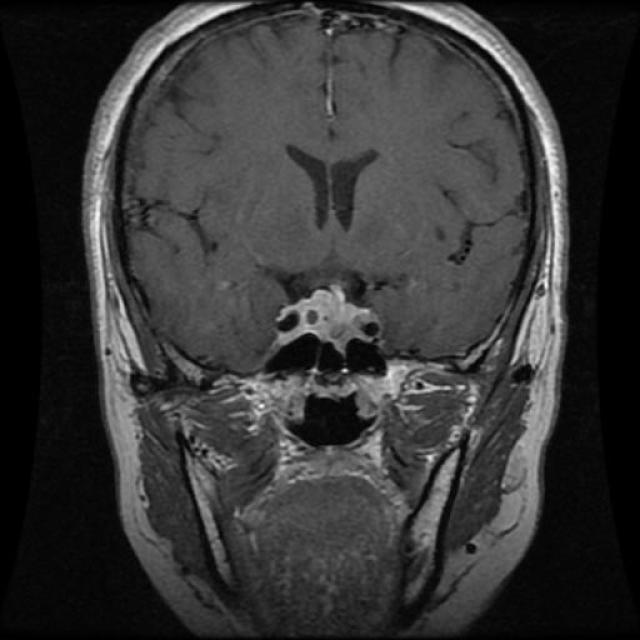pituitary: (256, 253, 383, 367)
